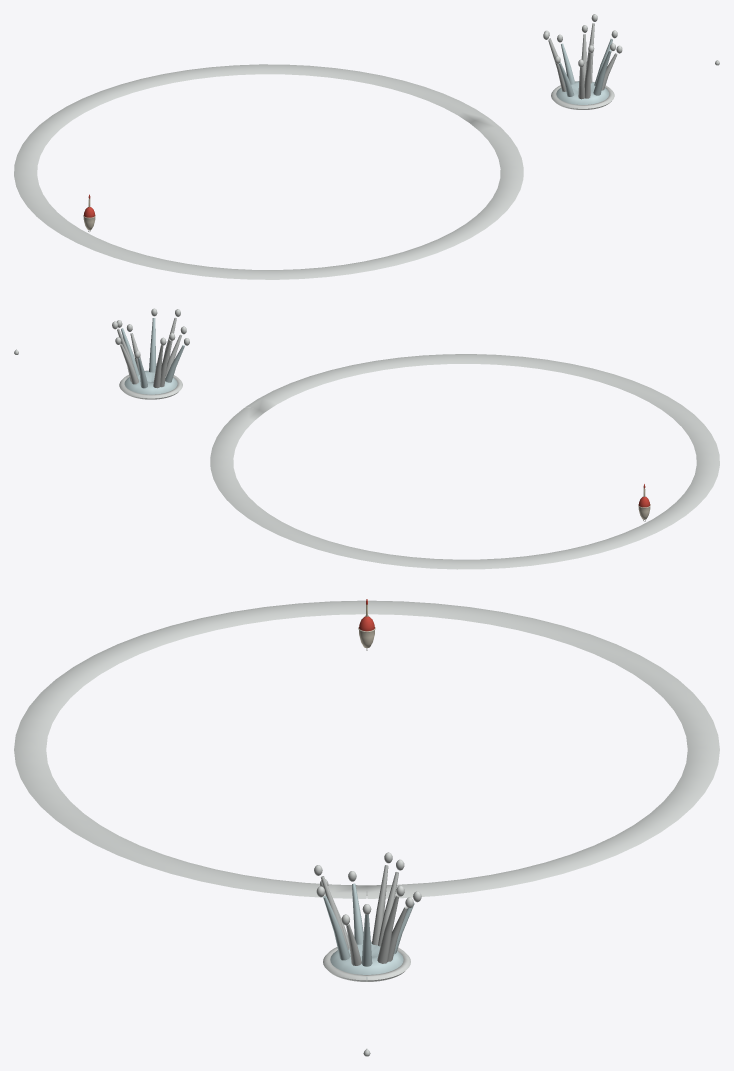
Rendered from fishing_bits.glb.
3 renders of one model, top to bottom at view 1: azimuth 30°, elevation 25°; view 2: azimuth 150°, elevation 25°; view 3: azimuth 270°, elevation 25°, orthographic. The views are drawn at different scales.
Parts seen in each view (by area): view 1: ripple, splash; view 2: ripple, splash; view 3: ripple, splash.
Part boxes in pixels (x1,y1,x2,y2): ripple: [14, 64, 523, 279]; splash: [543, 14, 622, 109]; ripple: [210, 354, 719, 569]; splash: [112, 308, 189, 399]; ripple: [14, 600, 719, 898]; splash: [314, 852, 421, 981].
Bounding box in the file's own units: 2.99 × 0.3528 × 1.97.
